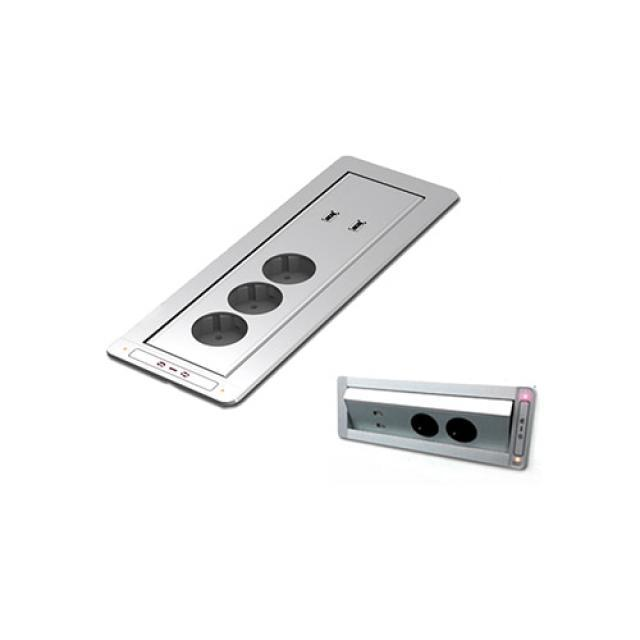typeb: (105, 158, 478, 369)
